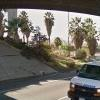Car: (53, 54, 100, 100)
